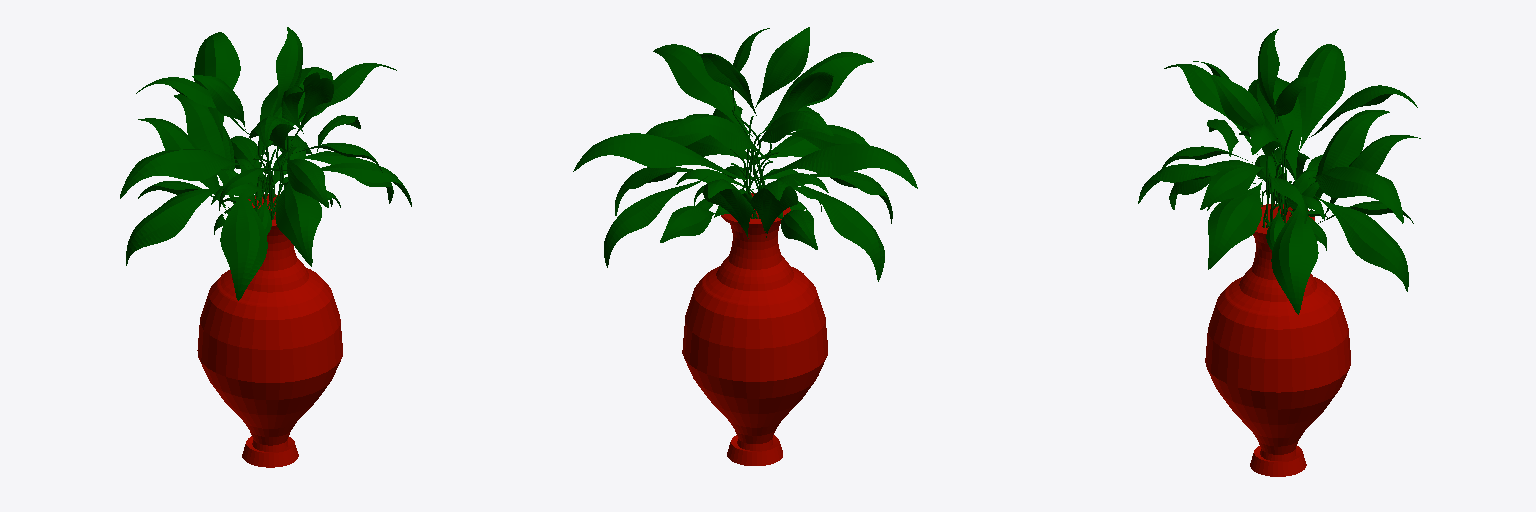
File: plant-low-poly.obj
The picture shows the model from 3 angles: view 1: azimuth 30°, elevation 25°; view 2: azimuth 150°, elevation 25°; view 3: azimuth 270°, elevation 25°; orthographic projection.
Visible parts, largest first — view 1: vase1.008; view 2: vase1.008; view 3: vase1.008.
Boxes of the visible parts, <box> form: vase1.008: <box>120,27,411,467</box>; vase1.008: <box>573,27,917,465</box>; vase1.008: <box>1138,29,1420,476</box>.
Size of the model in its own units: 6.25 by 8.44 by 5.35.